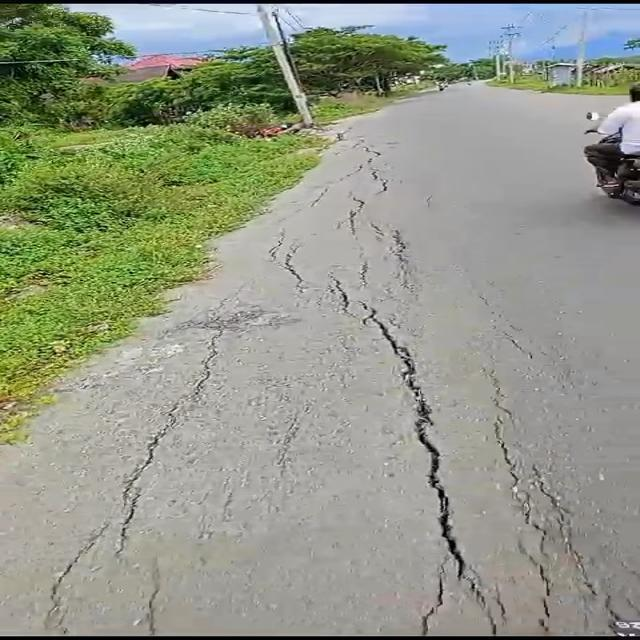Memanjang: (349, 297, 491, 611), (98, 322, 237, 565)
